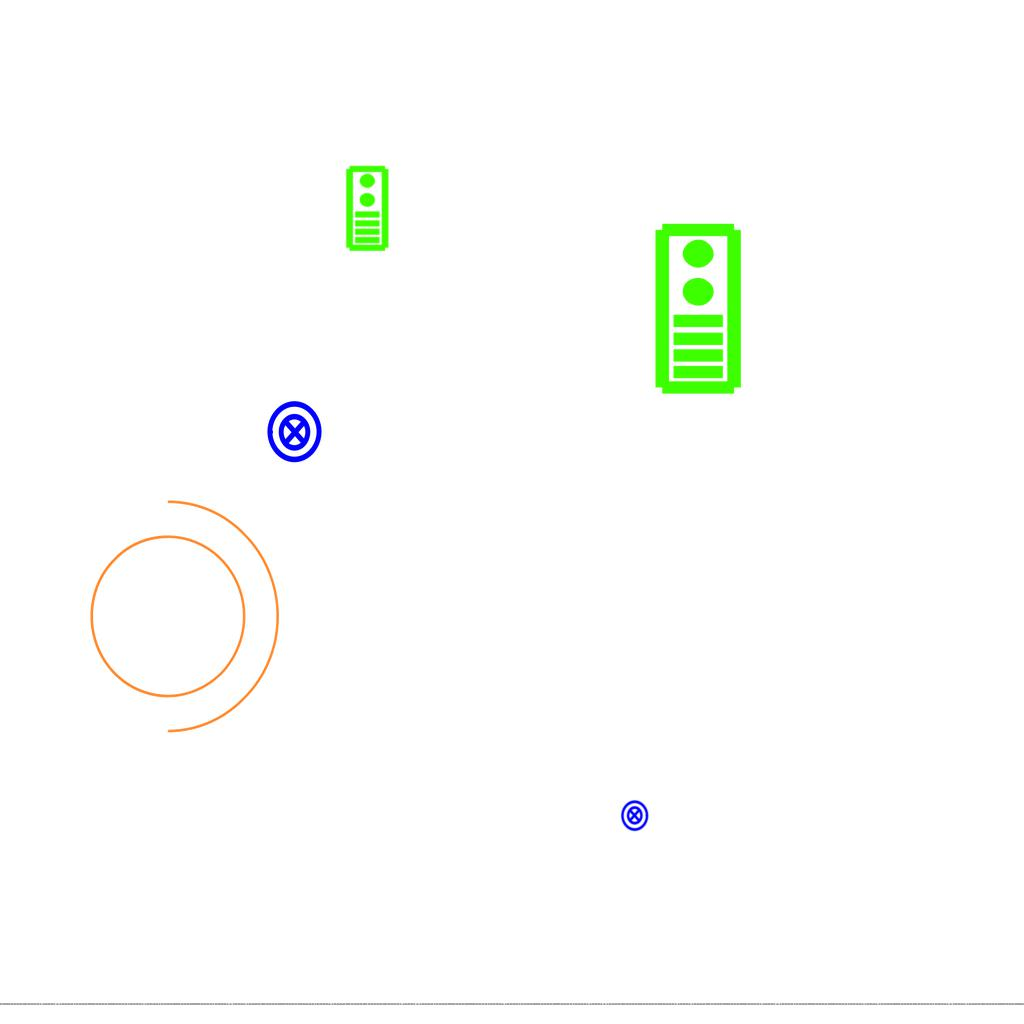Gegensprechanlage_mit_Video: (649, 220, 744, 396), (343, 164, 390, 252)
Scheinwerfer_fuer_Alarmbeleuchtung: (65, 478, 290, 742)
Taster_beleuchtet: (262, 399, 328, 465), (618, 799, 651, 832)
